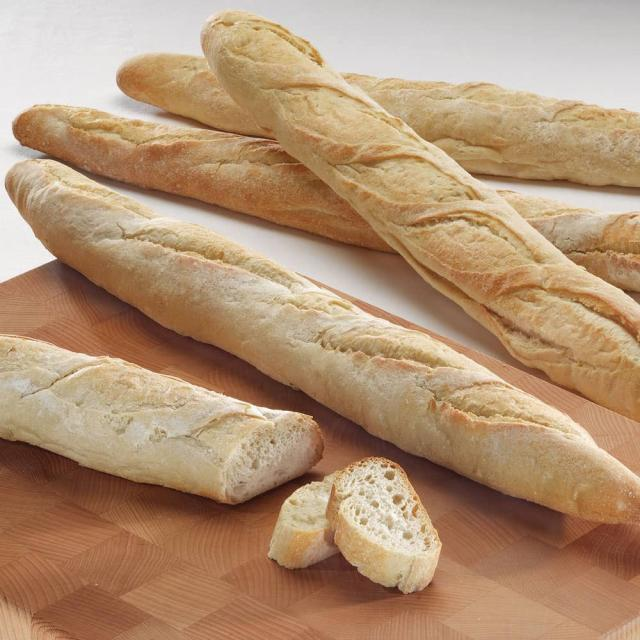Baguette: (5, 160, 639, 523), (201, 11, 639, 420), (0, 335, 323, 504)
